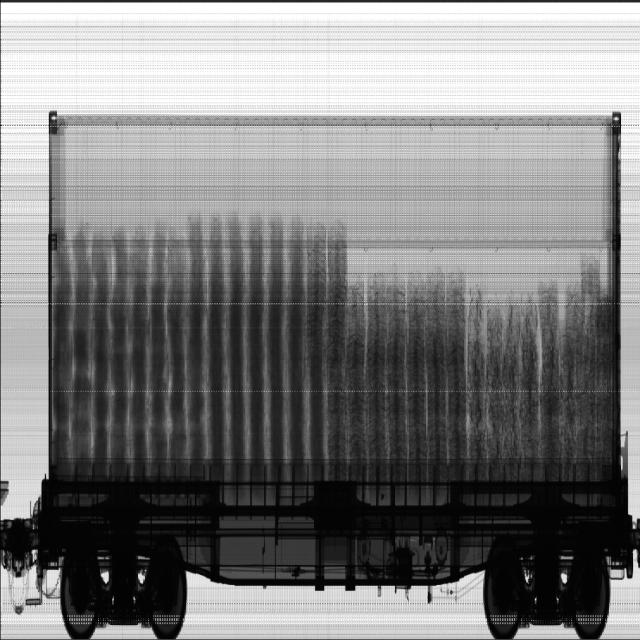shoes: (305, 219, 612, 461)
textiles: (50, 216, 327, 469)
